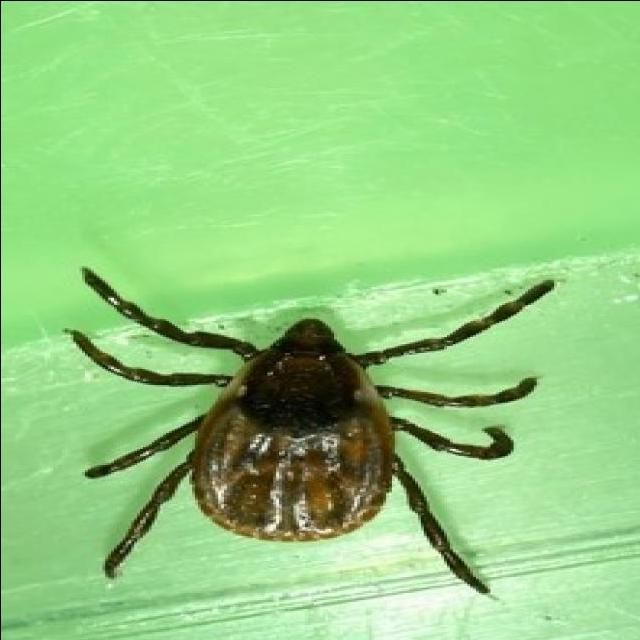Rhipicephalus Sanguineus-F: (64, 265, 559, 594)
